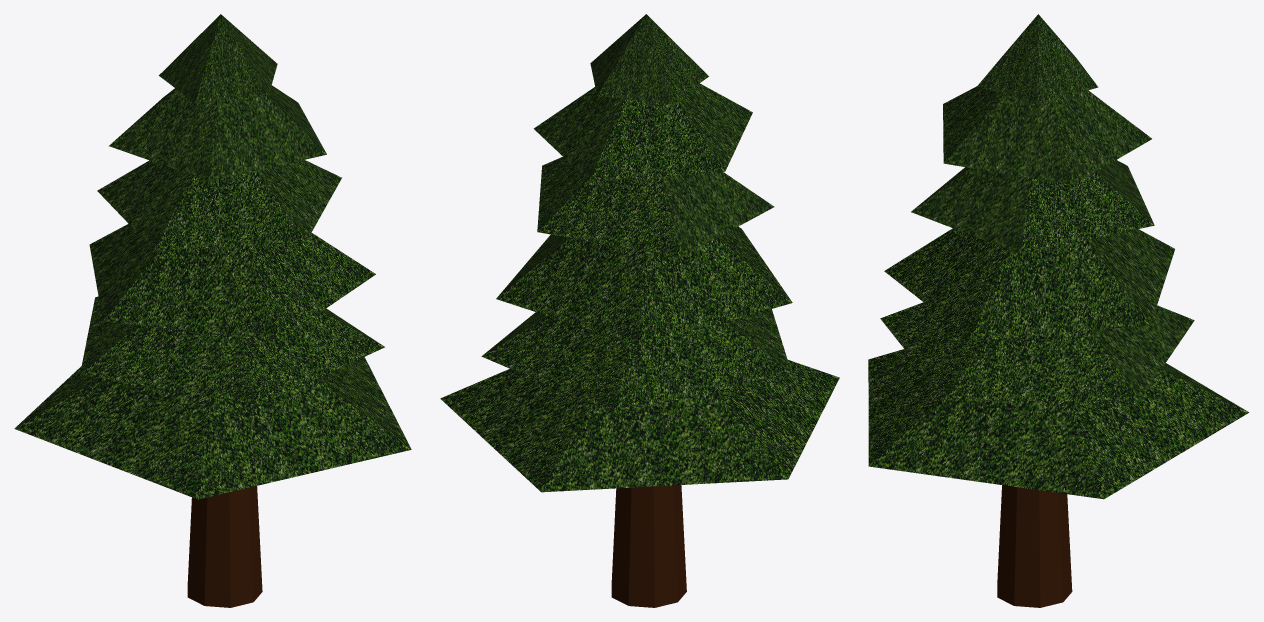
File: hillTree2.obj
3 renders of one model, left to right at view 1: azimuth 30°, elevation 25°; view 2: azimuth 150°, elevation 25°; view 3: azimuth 270°, elevation 25°, orthographic.
Visible parts, largest first — view 1: leaves_Cone.005, wood_Cylinder.001; view 2: leaves_Cone.005, wood_Cylinder.001; view 3: leaves_Cone.005, wood_Cylinder.001.
Part boxes in pixels (x1=…): leaves_Cone.005: x1=14, y1=14, x2=411, y2=499; wood_Cylinder.001: x1=187, y1=486, x2=262, y2=607; leaves_Cone.005: x1=440, y1=14, x2=839, y2=492; wood_Cylinder.001: x1=611, y1=485, x2=686, y2=607; leaves_Cone.005: x1=868, y1=14, x2=1248, y2=499; wood_Cylinder.001: x1=997, y1=485, x2=1072, y2=607.
Bounding box in the file's own units: 2.22 × 3.54 × 2.12.
Materials: 2 (2 with a texture image).
